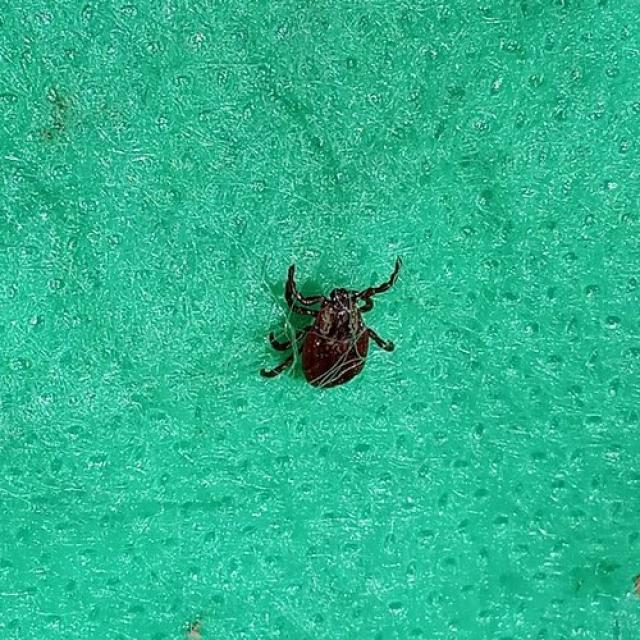Dermacentor Reticulatus-F: (259, 259, 399, 389)
